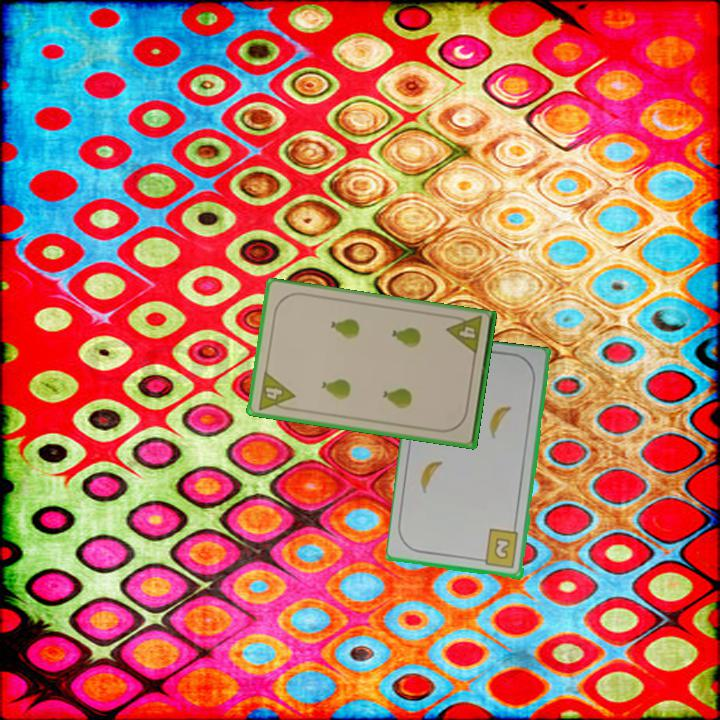2b: (476, 526, 521, 571)
4p: (254, 368, 297, 414), (444, 312, 485, 358)
